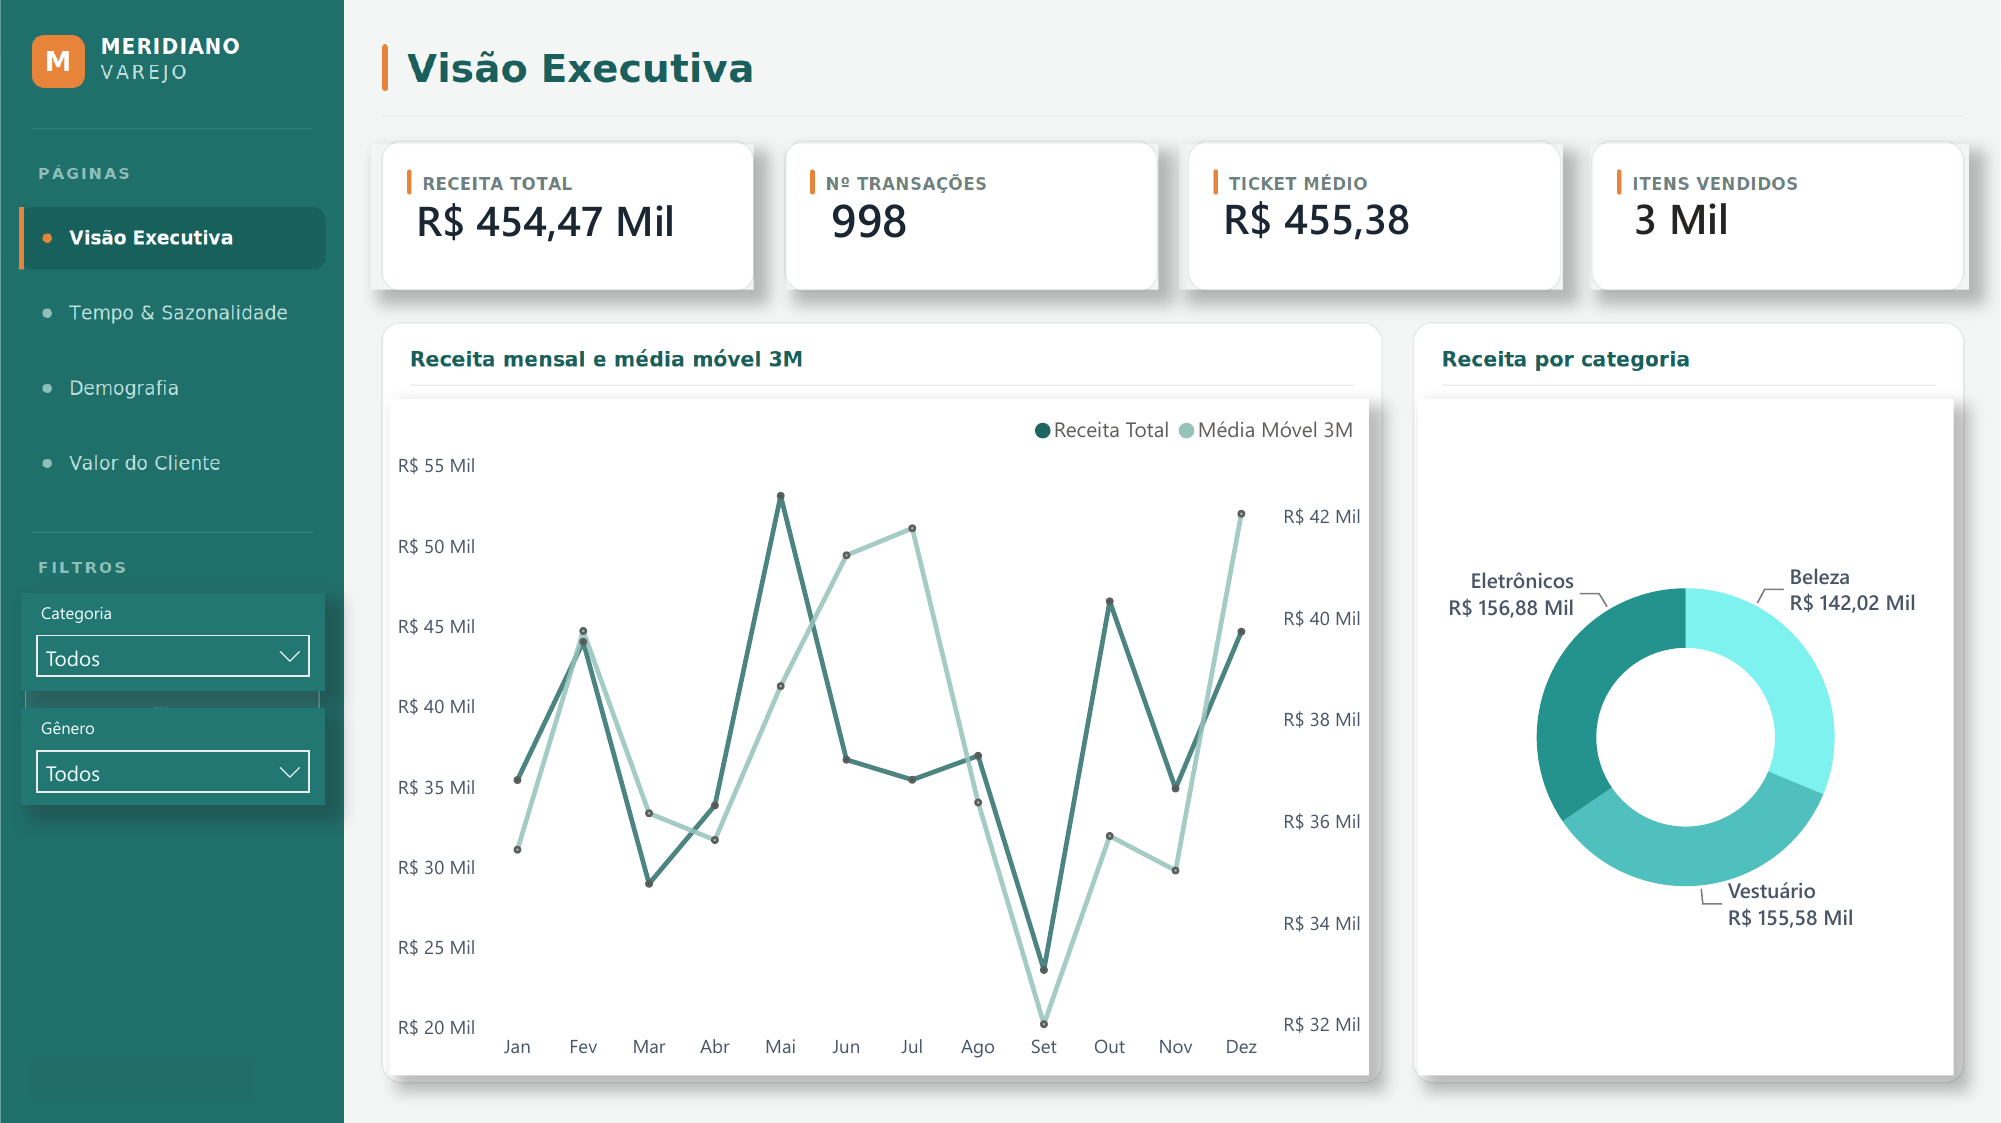

This screenshot's page, from the dashboard's own definition file:
{"tool":"powerbi","page":{"name":"Visão Executiva","canvas":[1280,720],"ordinal":0},"visuals":[{"type":"cardVisual","fields":{"Data":["_Medidas.Receita Total"]},"box":[236.7,91.7,245,93.3],"z":0},{"type":"lineChart","fields":{"Y":["_Medidas.Receita Total"],"Y2":["_Medidas.Média Móvel 3M"],"Category":["dCalendario.NomeMesAbreviado"]},"box":[249.1,255.5,627.3,432.7],"z":1000},{"type":"donutChart","fields":{"Category":["fVendas.Categoria Produto"],"Y":["_Medidas.Receita Total"]},"box":[907,255,343,433],"z":2000},{"type":"cardVisual","fields":{"Data":["_Medidas.N° Transações"]},"box":[502.9,92.1,237.9,92.9],"z":3000},{"type":"cardVisual","fields":{"Data":["_Medidas.Ticket Médio"]},"box":[753.6,92.1,246.4,92.9],"z":4000},{"type":"cardVisual","fields":{"Data":["_Medidas.Itens Vendidos"]},"box":[1017.1,92.1,242.9,92.9],"z":5000},{"type":"actionButton","box":[8.6,126.4,205,51.4],"z":6000},{"type":"actionButton","box":[8.6,177.9,205,43.6],"z":7000},{"type":"actionButton","box":[8.6,226.4,205,43.6],"z":8000},{"type":"actionButton","box":[8.6,276.4,205,43.6],"z":9000},{"type":"slicer","fields":{"Values":["fVendas.Categoria Produto"]},"box":[13.2,379.5,195.3,62.6],"z":10000},{"type":"slicer","fields":{"Values":["fVendas.Gênero"]},"box":[13.2,452.6,195.3,62.6],"z":11000},{"type":"shape","box":[18.8,675.6,143.1,27.5],"z":12000}]}

Visuals, with their boxes on the page's 1280x720 design canvas (x1, y1, x2, y2). These are canvas units, not pixel positions in the 2001x1123 screenshot, which may show the page scaled, cropped or inside an application window:
cardVisual - _Medidas.Receita Total: pyautogui.locateOnScreen(237, 92, 482, 185)
lineChart - _Medidas.Receita Total x _Medidas.Média Móvel 3M: pyautogui.locateOnScreen(249, 256, 876, 688)
donutChart - fVendas.Categoria Produto x _Medidas.Receita Total: pyautogui.locateOnScreen(907, 255, 1250, 688)
cardVisual - _Medidas.N° Transações: pyautogui.locateOnScreen(503, 92, 741, 185)
cardVisual - _Medidas.Ticket Médio: pyautogui.locateOnScreen(754, 92, 1000, 185)
cardVisual - _Medidas.Itens Vendidos: pyautogui.locateOnScreen(1017, 92, 1260, 185)
actionButton: pyautogui.locateOnScreen(9, 126, 214, 178)
actionButton: pyautogui.locateOnScreen(9, 178, 214, 222)
actionButton: pyautogui.locateOnScreen(9, 226, 214, 270)
actionButton: pyautogui.locateOnScreen(9, 276, 214, 320)
slicer - fVendas.Categoria Produto: pyautogui.locateOnScreen(13, 380, 208, 442)
slicer - fVendas.Gênero: pyautogui.locateOnScreen(13, 453, 208, 515)
shape: pyautogui.locateOnScreen(19, 676, 162, 703)
